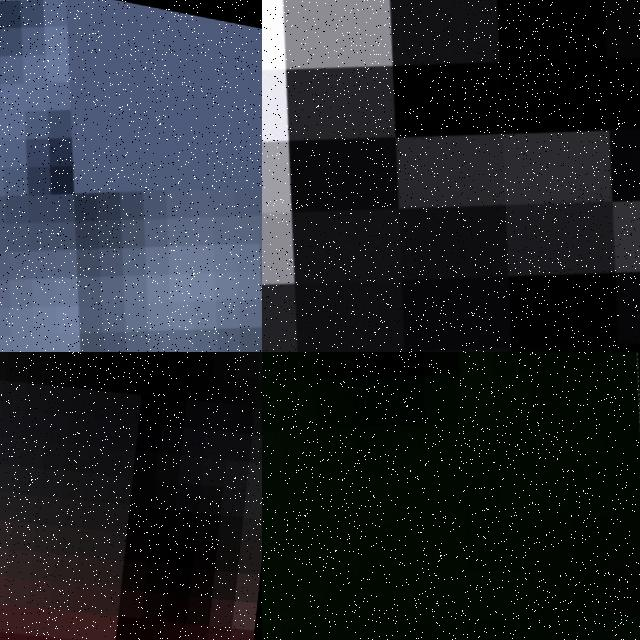drone: (262, 0, 640, 352), (262, 352, 640, 640), (0, 0, 262, 352)
